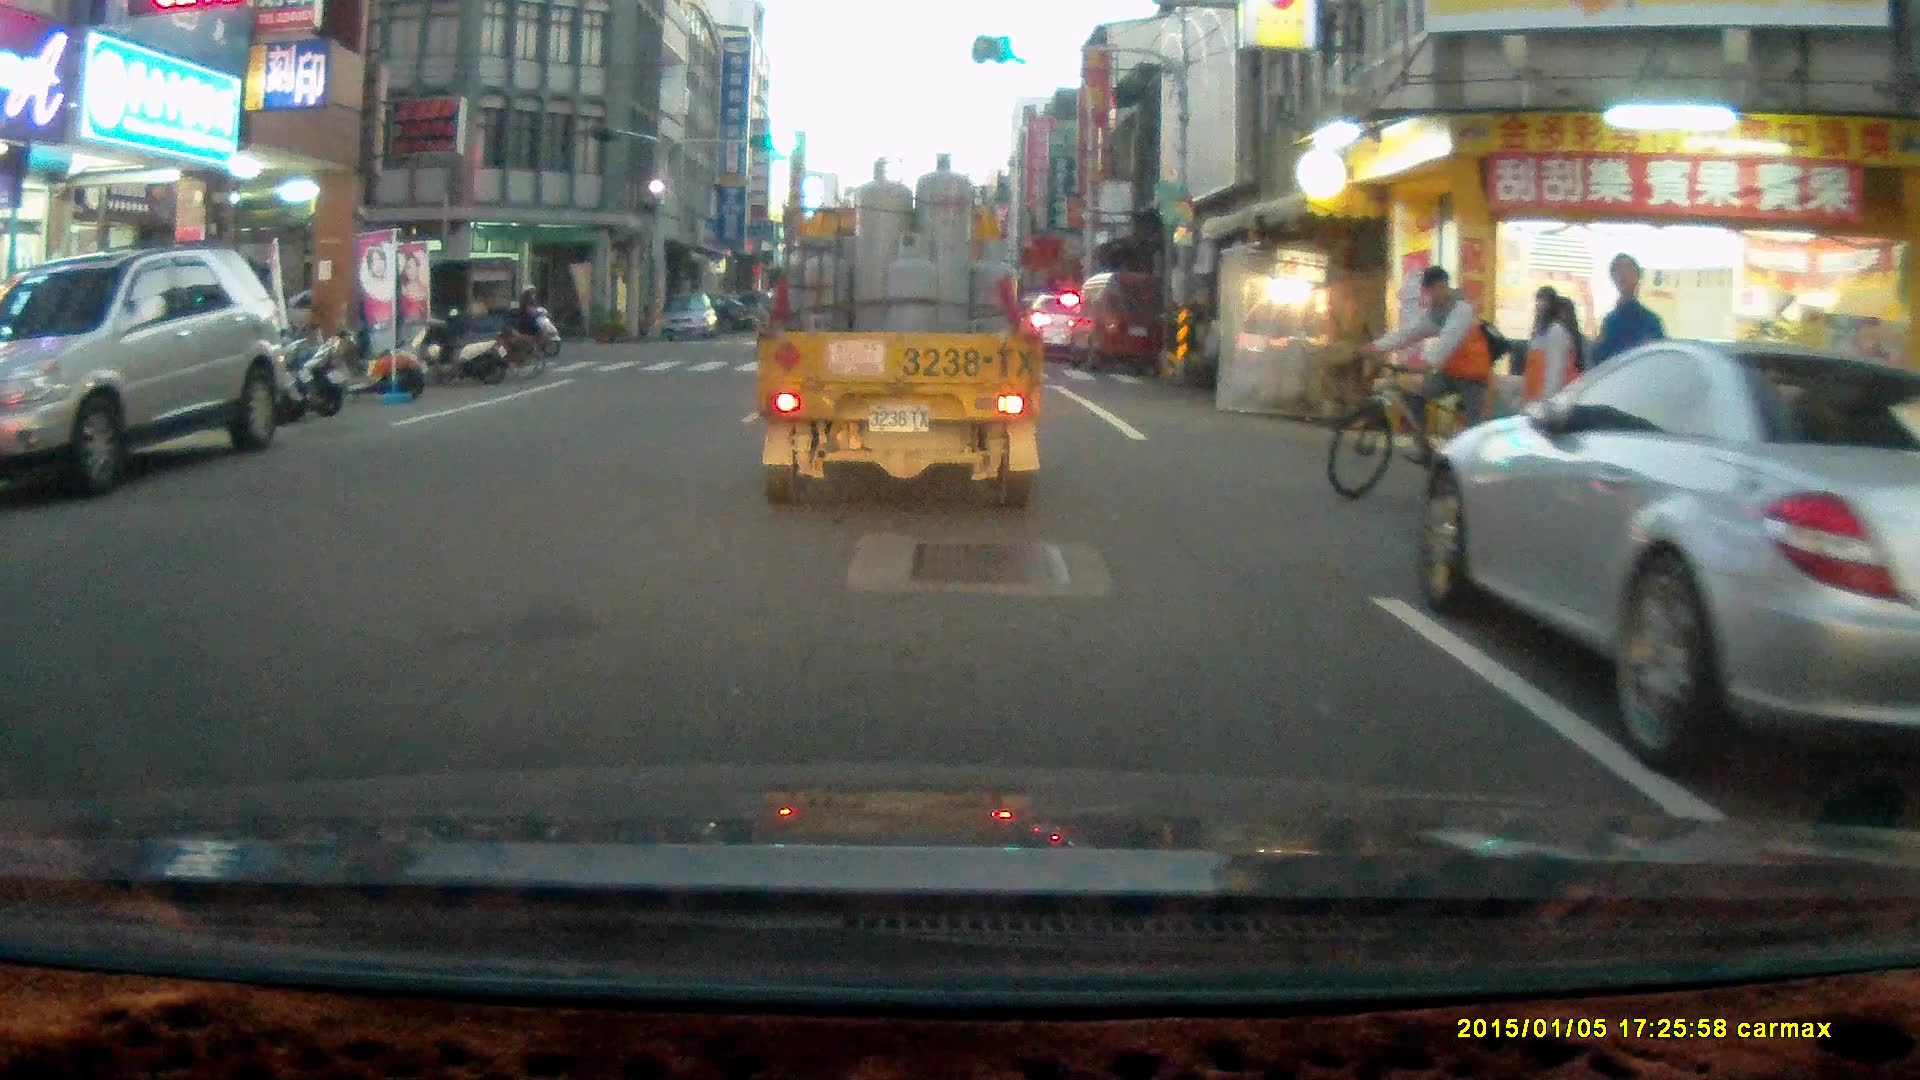pedestrian: (1586, 251, 1669, 531), (1523, 283, 1577, 488)
rider: (1327, 264, 1531, 505), (490, 282, 555, 365)
vehicle: (1418, 340, 1920, 779), (753, 161, 1039, 516), (1, 250, 288, 496), (333, 258, 513, 365), (1074, 268, 1175, 376), (1024, 295, 1092, 360), (655, 291, 719, 346)
